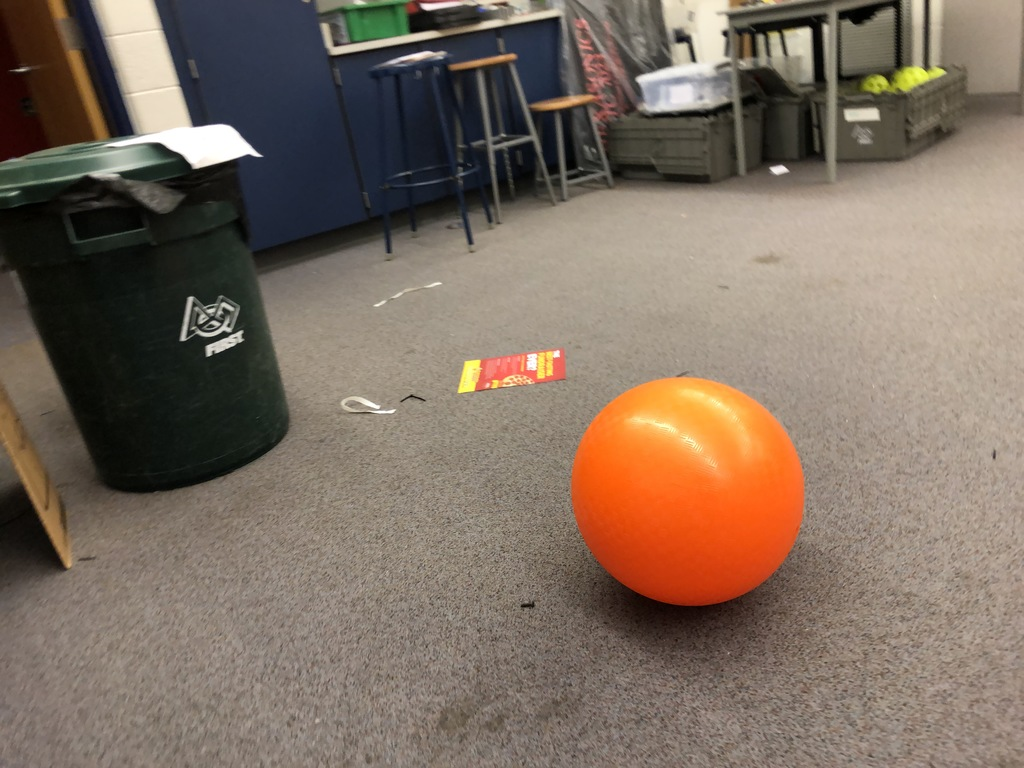cargo: (570, 367, 809, 607)
